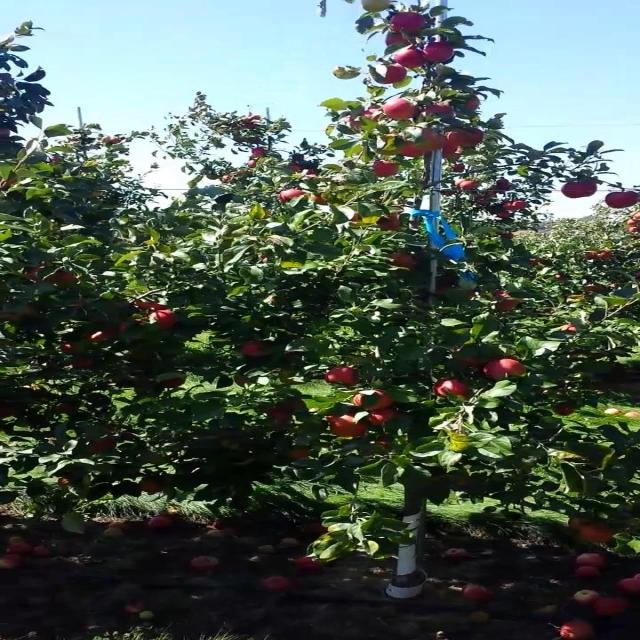apple: (483, 360, 526, 380), (575, 524, 617, 544), (333, 416, 370, 438), (390, 12, 427, 33), (383, 100, 420, 120), (447, 128, 484, 148), (355, 392, 393, 410), (454, 348, 489, 367), (326, 368, 361, 386), (6, 304, 39, 323), (397, 48, 427, 68), (426, 44, 455, 64), (561, 184, 597, 200), (604, 192, 639, 208), (148, 312, 178, 329), (383, 64, 407, 84), (440, 380, 469, 396), (497, 292, 519, 312), (369, 412, 398, 426), (433, 136, 460, 151), (376, 216, 402, 231), (84, 332, 116, 344), (440, 136, 460, 155), (426, 104, 455, 116), (49, 272, 78, 284), (141, 480, 164, 495), (426, 136, 448, 151), (241, 344, 265, 357), (269, 408, 293, 421), (92, 440, 116, 453), (568, 516, 594, 528), (390, 256, 414, 268), (362, 108, 384, 121), (404, 144, 425, 157), (376, 164, 398, 176), (134, 304, 167, 312), (284, 400, 306, 412), (504, 200, 526, 212), (291, 448, 311, 460), (120, 320, 140, 332), (70, 360, 96, 369), (28, 268, 44, 282), (362, 4, 389, 12), (582, 284, 606, 293), (461, 180, 478, 192), (284, 192, 306, 201), (390, 36, 412, 45), (56, 404, 78, 413), (163, 380, 185, 388), (554, 408, 576, 416), (468, 100, 484, 111), (426, 128, 439, 141), (447, 148, 462, 159), (561, 324, 578, 333), (6, 408, 21, 418), (497, 180, 512, 190), (376, 440, 391, 450), (348, 120, 363, 129), (312, 196, 327, 204), (63, 344, 76, 353), (625, 412, 639, 420), (355, 212, 363, 223), (63, 480, 71, 486), (440, 288, 448, 294)
